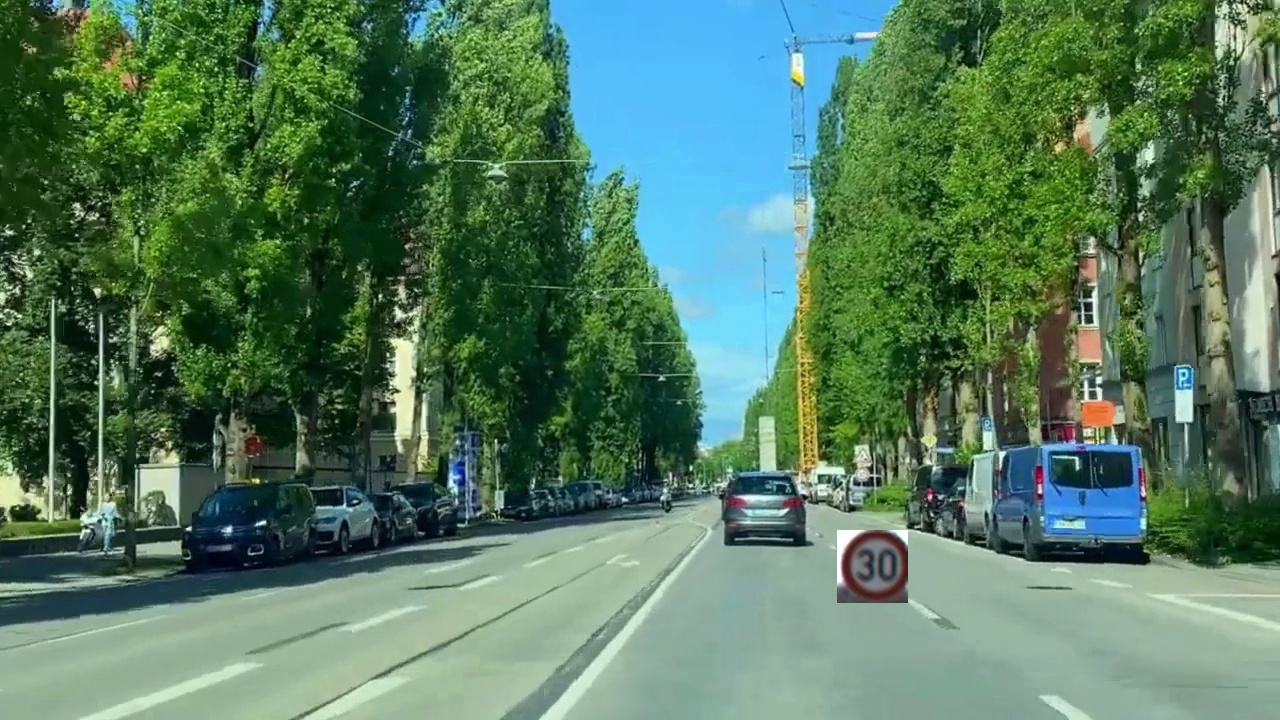Speed 30: (837, 530, 908, 603)
